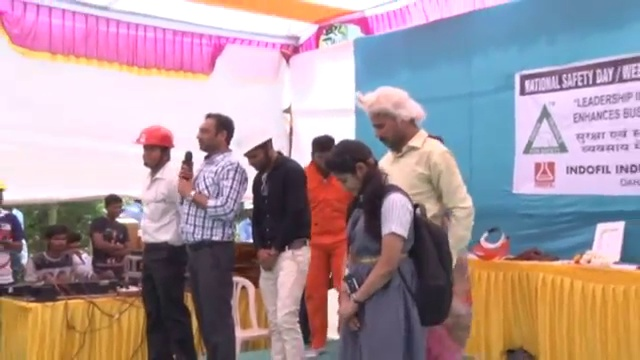helmet: (133, 123, 177, 152), (238, 122, 273, 157), (0, 180, 9, 192)
helmet_off: (358, 90, 429, 150), (327, 136, 368, 200), (191, 115, 236, 160), (308, 136, 334, 173), (42, 226, 70, 256), (103, 196, 124, 220), (66, 231, 82, 255)
helmet_on: (135, 122, 175, 172), (240, 128, 274, 173), (0, 180, 11, 212)
person: (330, 138, 454, 357), (361, 83, 475, 267), (180, 107, 247, 360), (241, 134, 313, 360), (134, 121, 187, 360), (303, 128, 351, 349), (23, 224, 83, 288), (88, 195, 131, 276), (0, 180, 25, 296)
